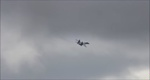maybay_muctieu: (74, 37, 91, 50)
